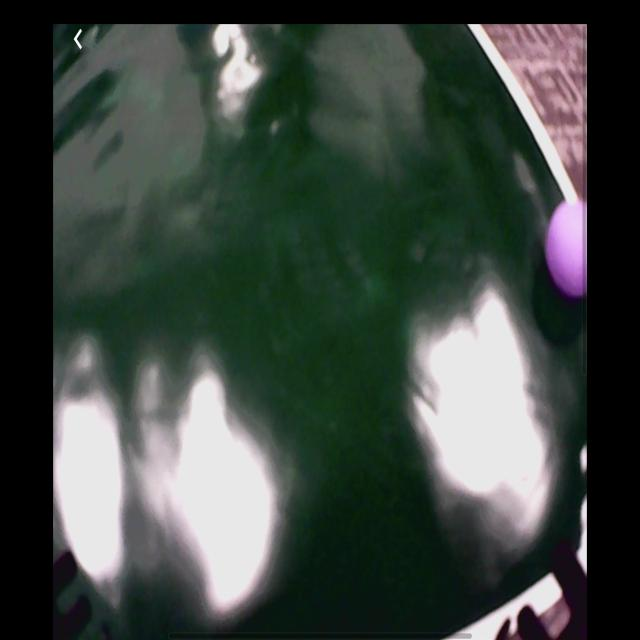ball: (547, 201, 588, 298)
